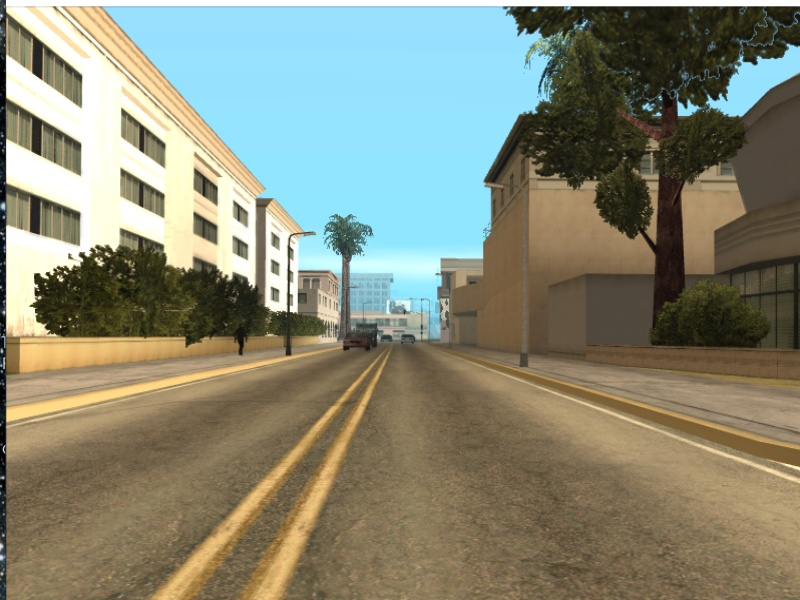person: (235, 324, 250, 357)
pole: (520, 189, 533, 373), (285, 236, 294, 357)
tree: (656, 131, 690, 337)
vehicle: (340, 331, 373, 351), (400, 334, 417, 348), (382, 334, 393, 344)
